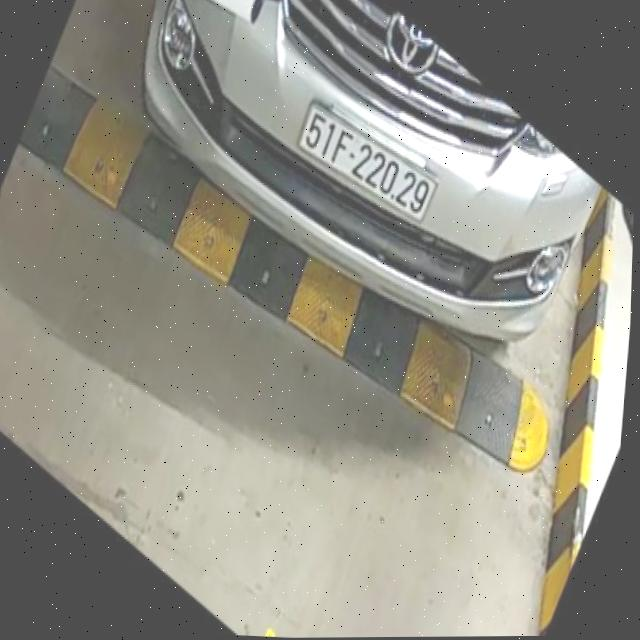car: (103, 0, 632, 364)
plate: (278, 94, 457, 236)
